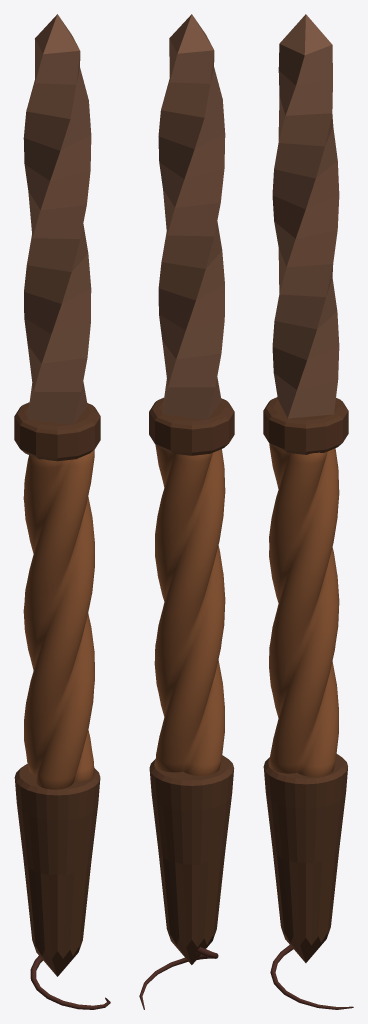
Rendered from Wand 859.glb.
3 renders of one model, left to right at view 1: azimuth 30°, elevation 25°; view 2: azimuth 210°, elevation 25°; view 3: azimuth 330°, elevation 25°, orthographic.
Parts seen in each view (by area): view 1: GeneratedWand; view 2: GeneratedWand; view 3: GeneratedWand.
Part boxes in pixels (<box>): GeneratedWand: <box>14,14,110,1009</box>; GeneratedWand: <box>139,14,234,1009</box>; GeneratedWand: <box>263,14,353,1009</box>.
Size of the model in its own units: 0.0457 by 0.5056 by 0.0401.
